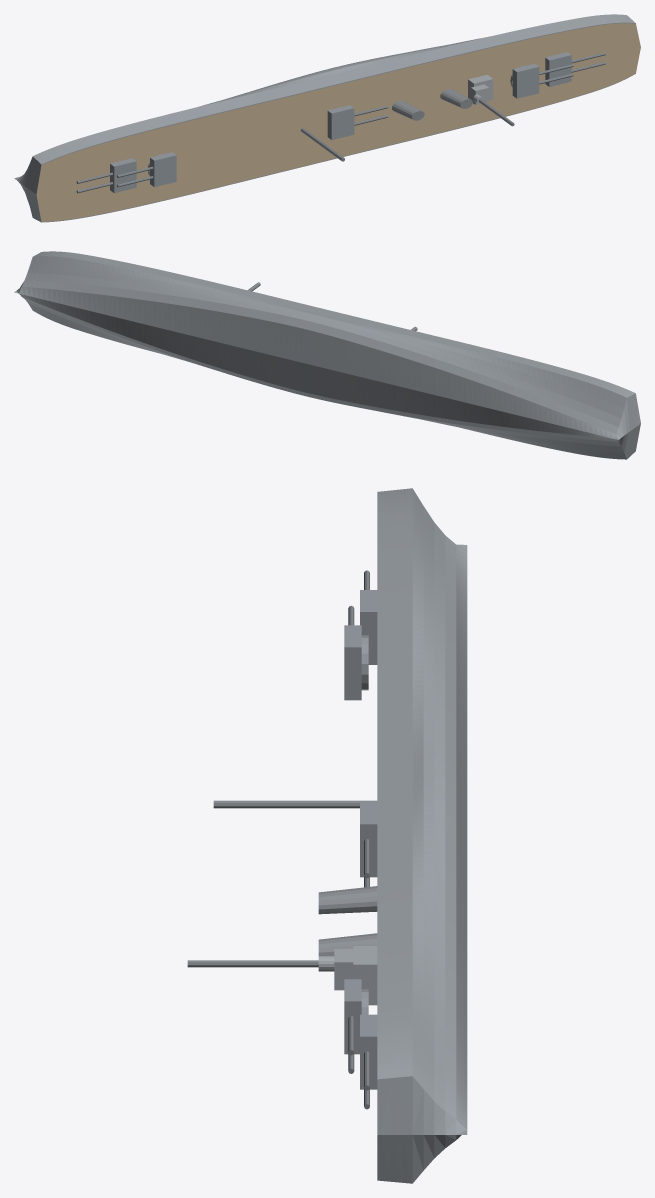
3 renders of one model, top to bottom at view 1: azimuth 30°, elevation 25°; view 2: azimuth 150°, elevation 25°; view 3: azimuth 270°, elevation 25°, orthographic. The views are drawn at different scales.
Parts seen in each view (by area): view 1: B63a; view 2: B63a; view 3: B63a.
Part boxes in pixels (<box>): B63a: <box>14,14,640,222</box>; B63a: <box>14,251,640,459</box>; B63a: <box>187,488,467,1183</box>.
Bounding box in the file's own units: 244 × 31.28 × 48.81.
